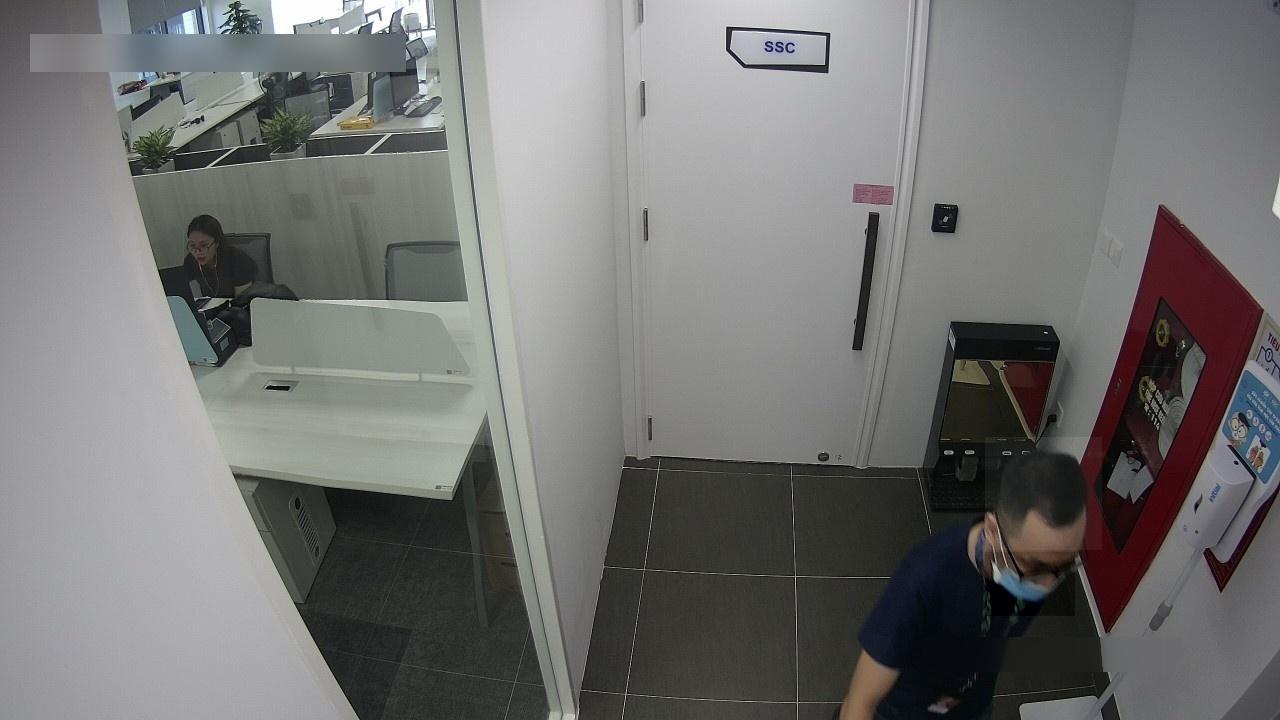mask: (985, 552, 1075, 616)
no_gloves: (985, 437, 1102, 550), (184, 205, 236, 278)
no_hairnet: (183, 230, 218, 265)
